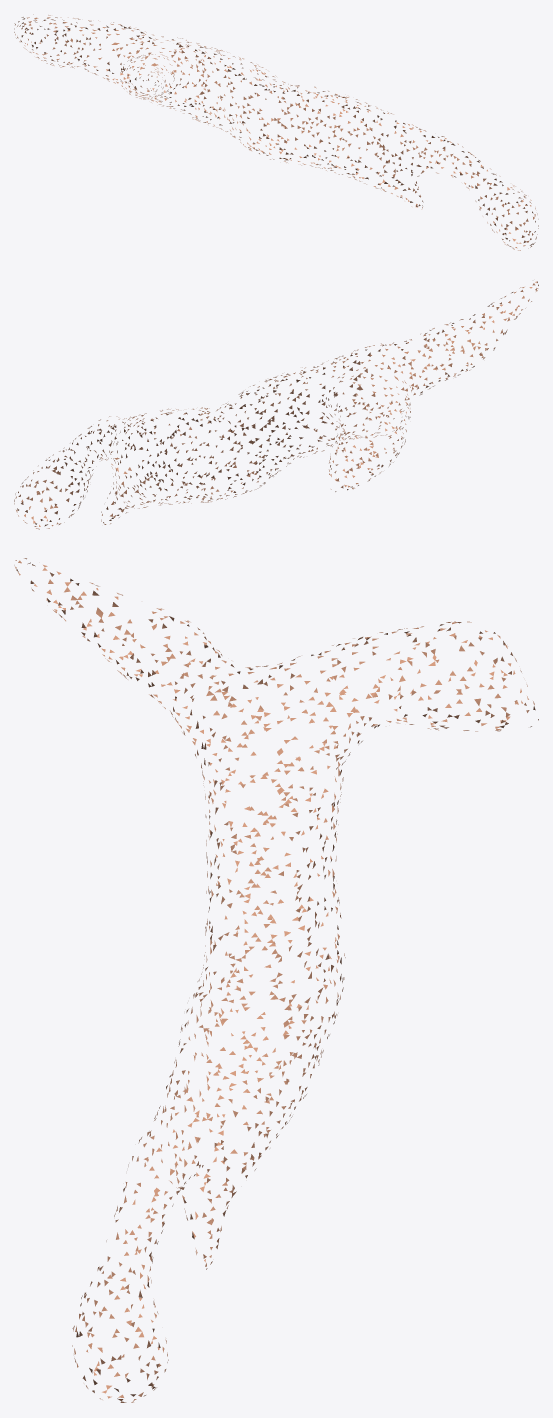
File: morph_004.glb
3 renders of one model, top to bottom at view 1: azimuth 30°, elevation 25°; view 2: azimuth 150°, elevation 25°; view 3: azimuth 270°, elevation 25°, orthographic. The views are drawn at different scales.
Bounding box in the file's own units: 93.57 × 61.04 × 57.54.
